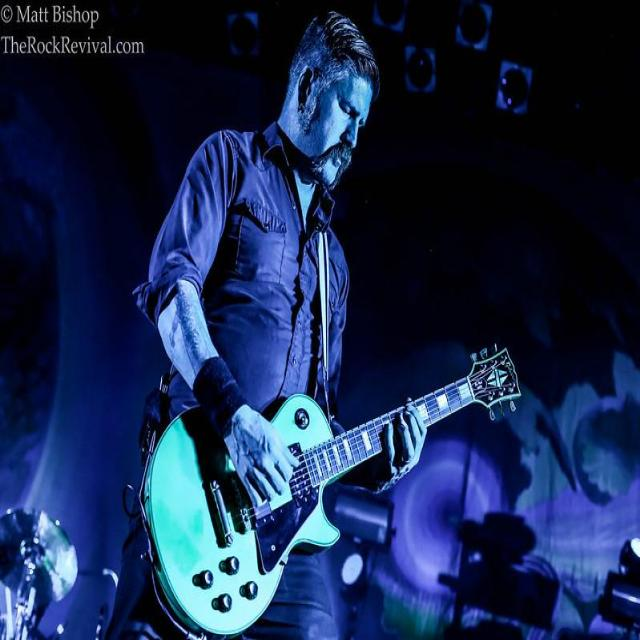guitar: (141, 394, 401, 637)
